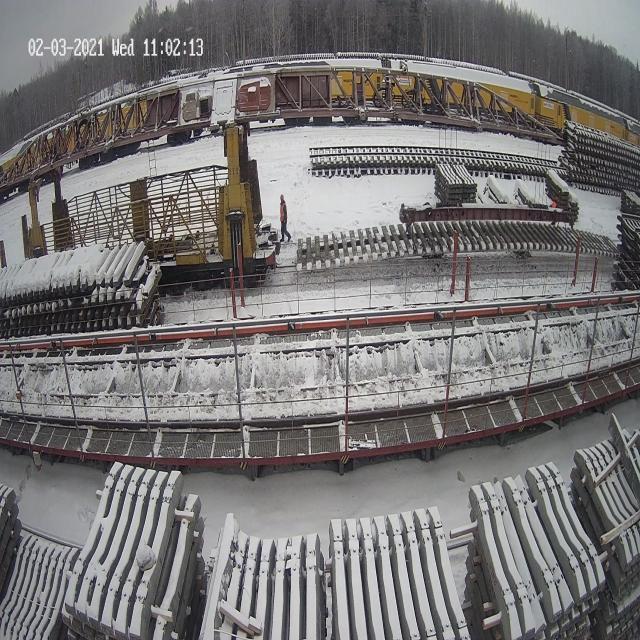Person: (280, 194, 291, 242)
